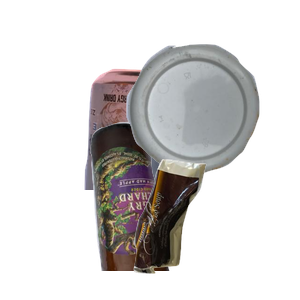glass: (88, 120, 252, 300)
metal: (82, 66, 270, 246)
plastic: (124, 42, 300, 210)
trash: (131, 157, 300, 300)
